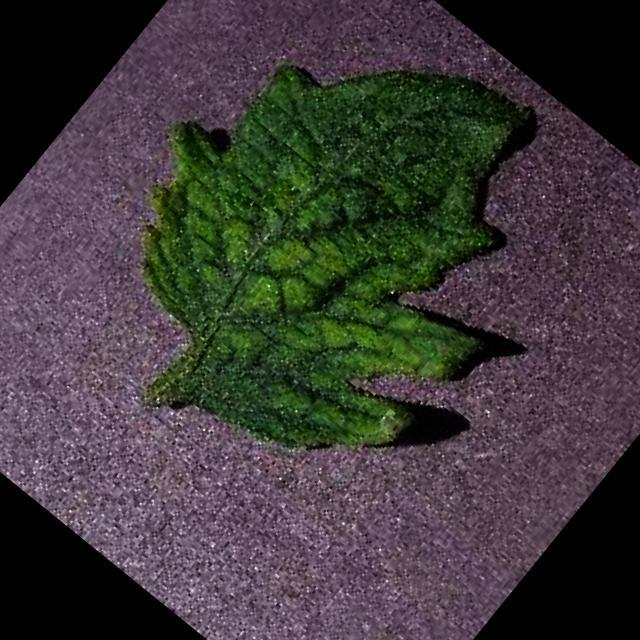Tomato mosaic virus leaf: (51, 0, 624, 522)
